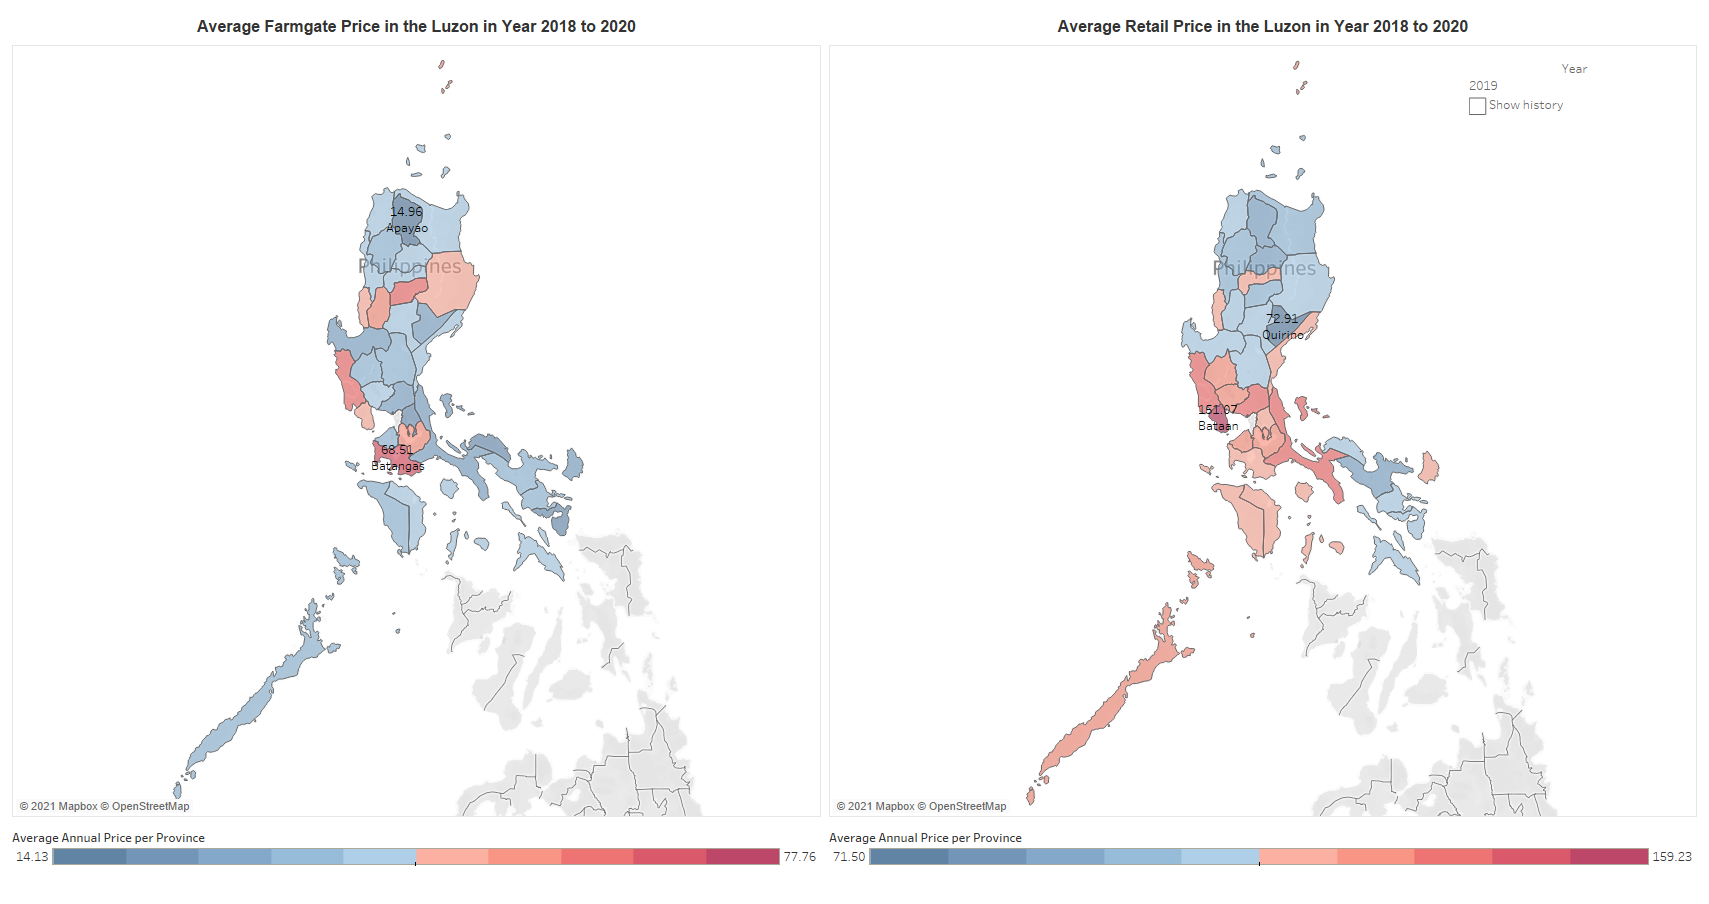

Layout of this report page (visuals, bound fields, positions):
{"tool":"tableau","page":{"name":"Objective 3","canvas":[1000,1000],"units":"permille","ordinal":3},"visuals":[{"type":"worksheet","title":"Farmgate Province","mark":"Multipolygon","box":[4.7,8.8,478.1,899.3]},{"type":"worksheet","title":"Retail Province","mark":"Multipolygon","box":[482.8,8.8,512.5,899.3]},{"type":"currpage","title":"Farmgate Province","box":[859.6,65.3,123.5,88.5]},{"type":"legend","title":"Farmgate Province","param":"[federated.11yr58t03ajr2j1fum0s00oflgma].[avg:Annual Price:qk]","box":[4.7,908.2,478.1,83]},{"type":"legend","title":"Retail Province","param":"[federated.11yr58t03ajr2j1fum0s00oflgma].[avg:Annual Price:qk]","box":[482.8,908.2,512.5,83]}]}

Visuals, with their boxes on the dashboard's canvas, which has no fixed pixel size, in thousandths of its width and height (x1, y1, x2, y2). These are canvas units, not pixel positions in the 1709x904 screenshot, which may show the page scaled, cropped or inside an application window:
"Farmgate Province" worksheet (Multipolygon marks): 5:9:483:908
"Retail Province" worksheet (Multipolygon marks): 483:9:995:908
"Farmgate Province" currpage: 860:65:983:154
"Farmgate Province" legend: 5:908:483:991
"Retail Province" legend: 483:908:995:991
